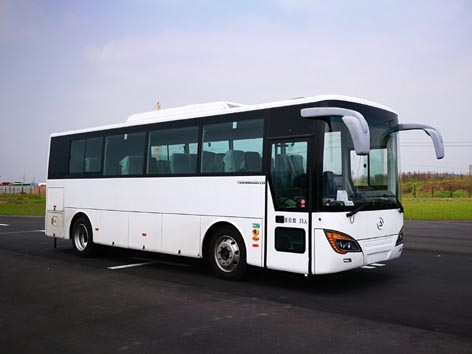bigcar: (41, 91, 446, 281)
